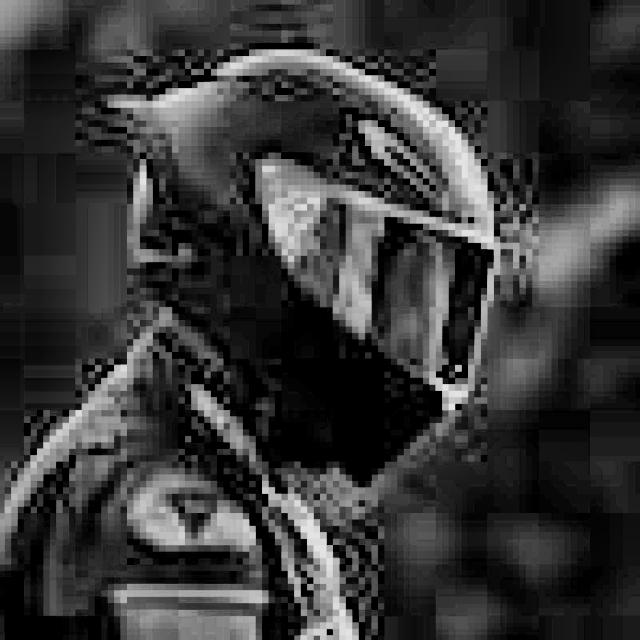Helmet: (96, 32, 524, 479)
